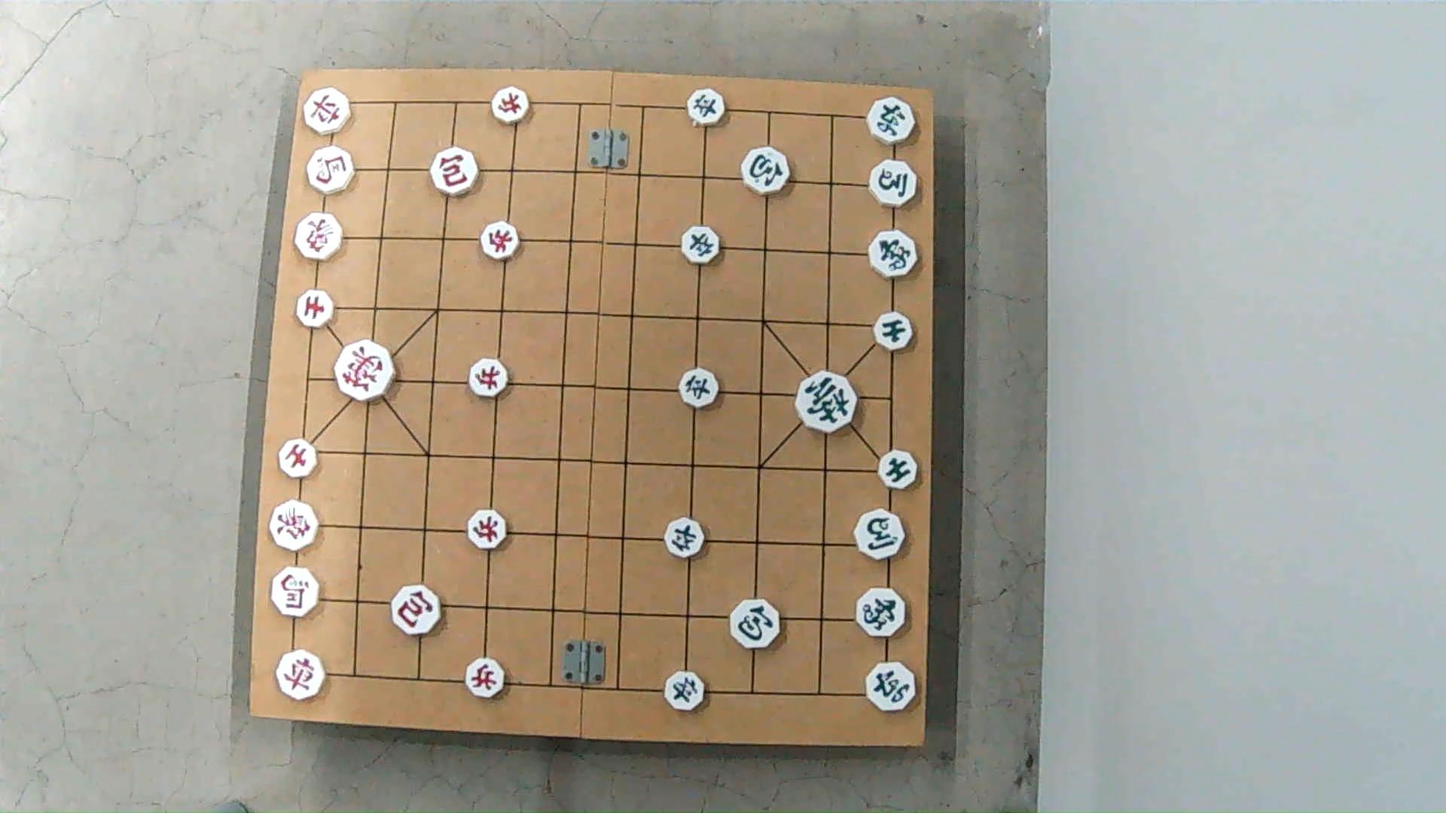cha_green: (863, 663, 917, 711), (866, 98, 918, 145)
cha_red: (279, 653, 328, 699), (302, 90, 352, 132)
jol_green: (678, 228, 723, 266), (665, 674, 707, 711), (676, 369, 719, 404), (666, 522, 707, 558), (688, 91, 729, 125)
jol_red: (464, 663, 507, 701), (468, 513, 510, 550), (468, 361, 511, 396), (479, 224, 521, 259), (487, 89, 530, 122)
ma_green: (852, 509, 905, 558), (868, 162, 921, 206)
ma_red: (304, 146, 357, 196), (274, 569, 324, 615)
po_green: (739, 146, 795, 195), (731, 600, 785, 648)
po_red: (391, 581, 443, 635), (431, 148, 481, 195)
sa_green: (873, 313, 916, 351), (877, 451, 920, 486)
sa_red: (294, 291, 337, 327), (278, 441, 319, 477)
sang_green: (865, 231, 918, 282), (855, 588, 906, 635)
sang_red: (271, 504, 323, 550), (292, 215, 343, 259)
wang_green: (792, 374, 859, 431)
wang_red: (334, 345, 395, 399)
